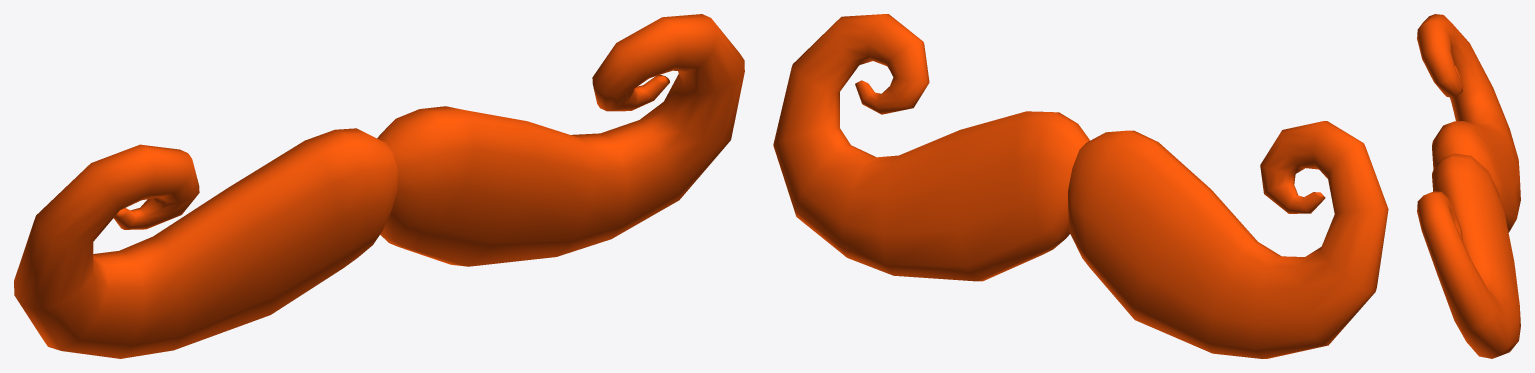
File: Beard_16_06.fbx
3 renders of one model, left to right at view 1: azimuth 30°, elevation 25°; view 2: azimuth 150°, elevation 25°; view 3: azimuth 270°, elevation 25°, orthographic. The views are drawn at different scales.
Visible parts, largest first — view 1: Beard_16_06; view 2: Beard_16_06; view 3: Beard_16_06.
Part boxes in pixels (x1,y1,x2,y2): Beard_16_06: (14,14,744,358); Beard_16_06: (773,14,1388,358); Beard_16_06: (1417,14,1520,358).
Size of the model in its own units: 14.58 by 4.99 by 2.74.
